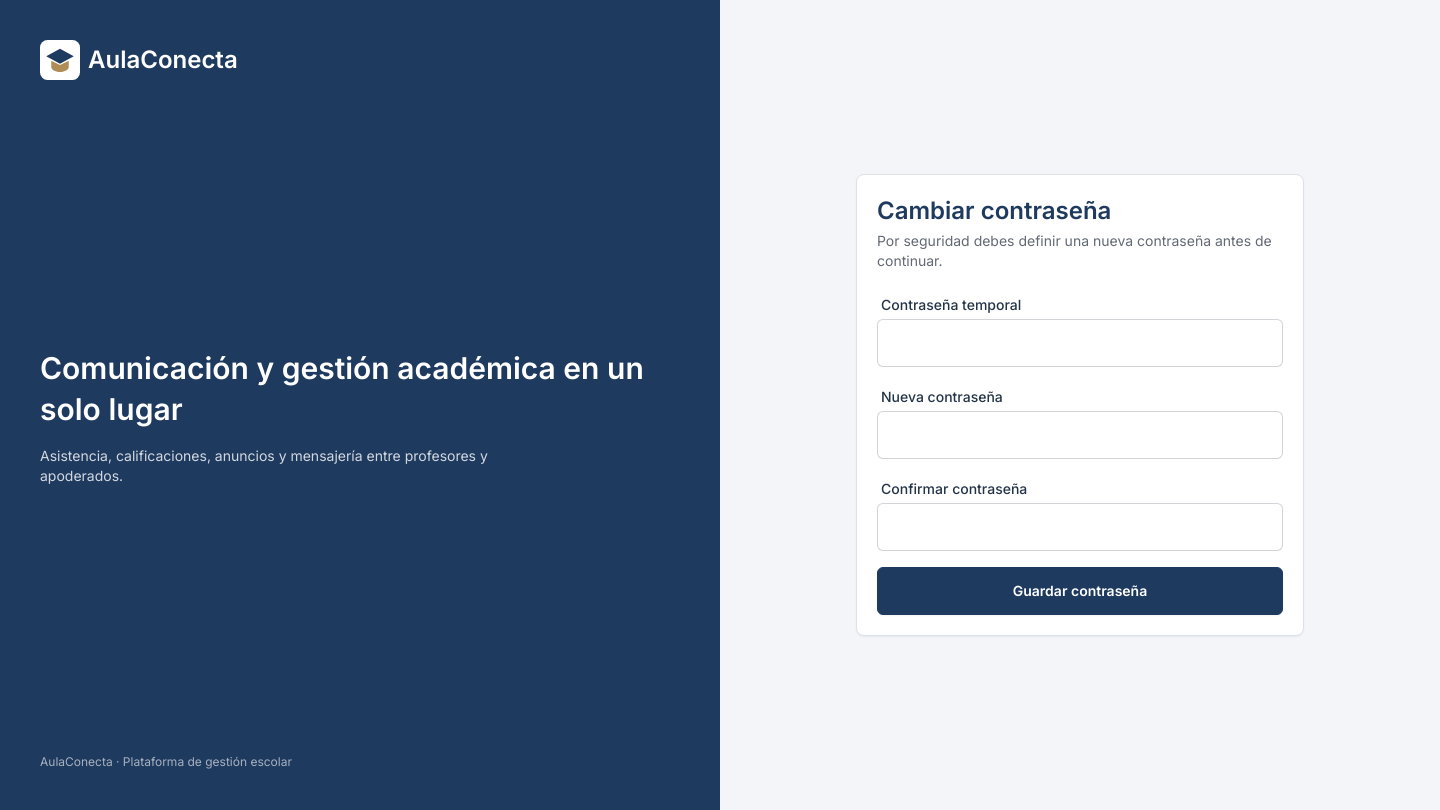
Scenario: ChangePassword › actualiza la contraseña y marca la sesión como actualizada
Expected: the text "debes definir una nueva contraseña" is shown, [877, 232, 1272, 269]
Type "Demo1234" into the password field labelled "Contraseña temporal".
click(1080, 343); type("Demo1234")  # box [877, 319, 1283, 367]
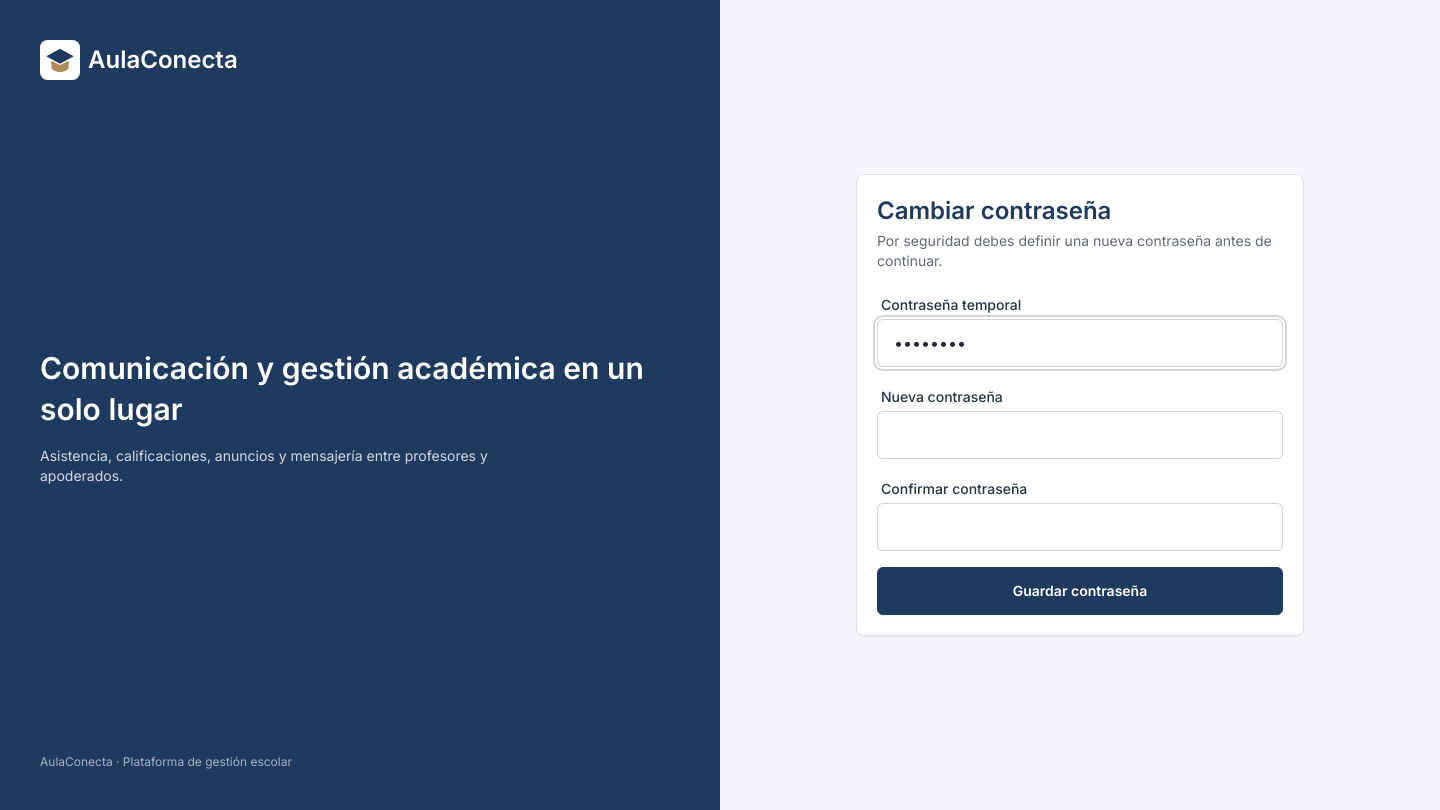
Type "Clave12345" into the password field labelled "Nueva contraseña".
click(1080, 435); type("Clave12345")  # box [877, 411, 1283, 459]
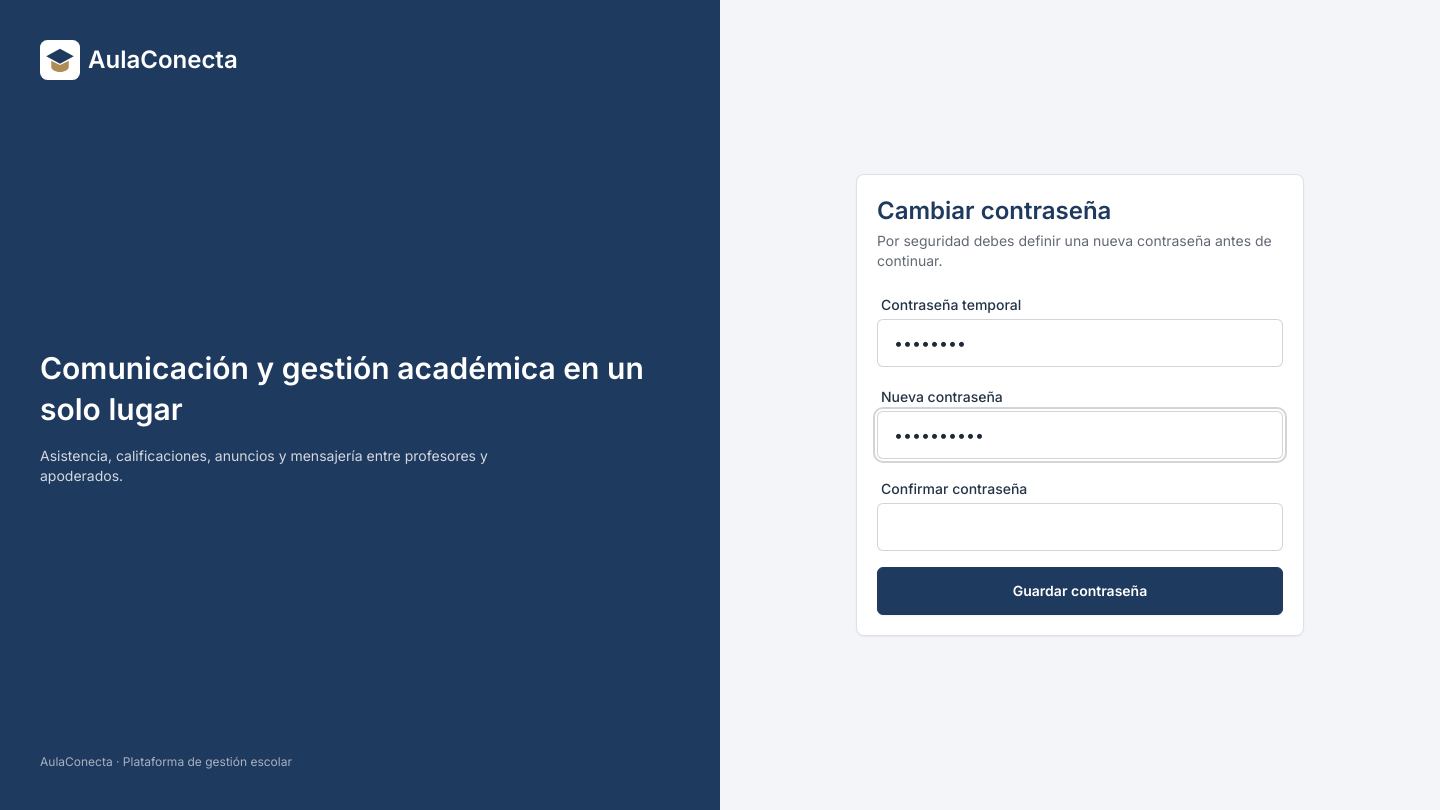
Type "Clave12345" into the password field labelled "Confirmar contraseña".
click(1080, 527); type("Clave12345")  # box [877, 503, 1283, 551]
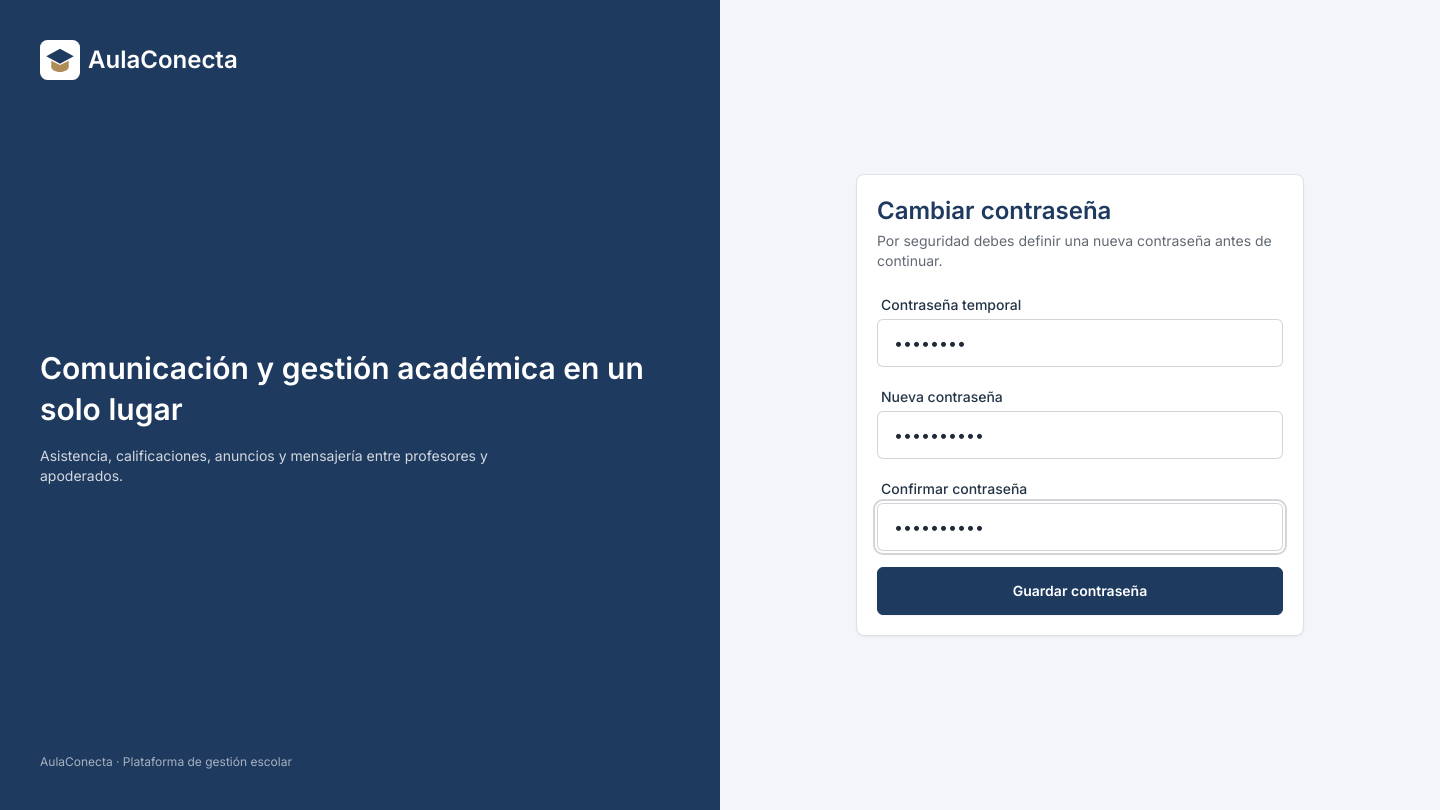
Click the button "Guardar contraseña".
click(1080, 591)  # box [877, 567, 1283, 615]
(page scrolled)
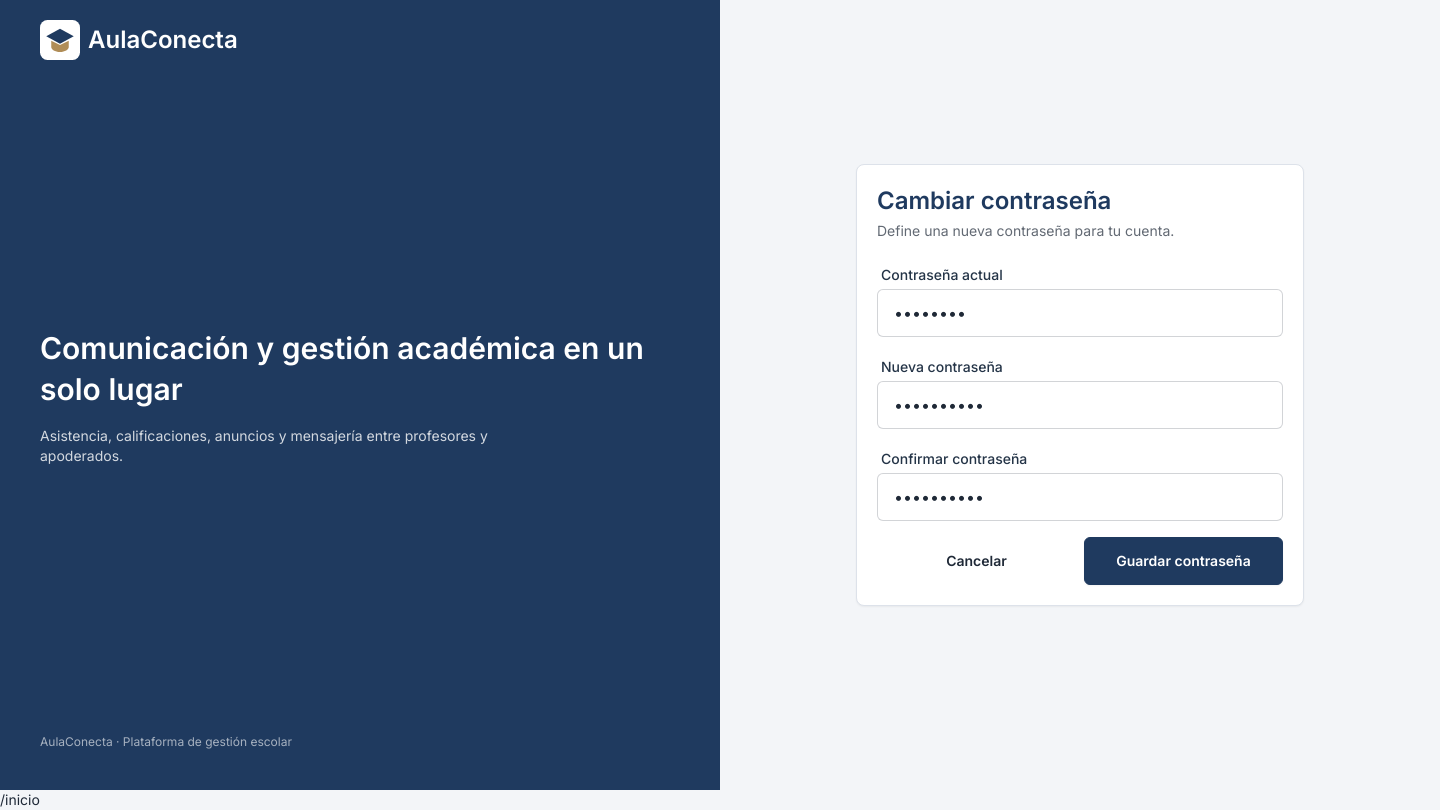
Result: the text with test id "location" reads "/inicio" at [0, 791, 40, 808]
